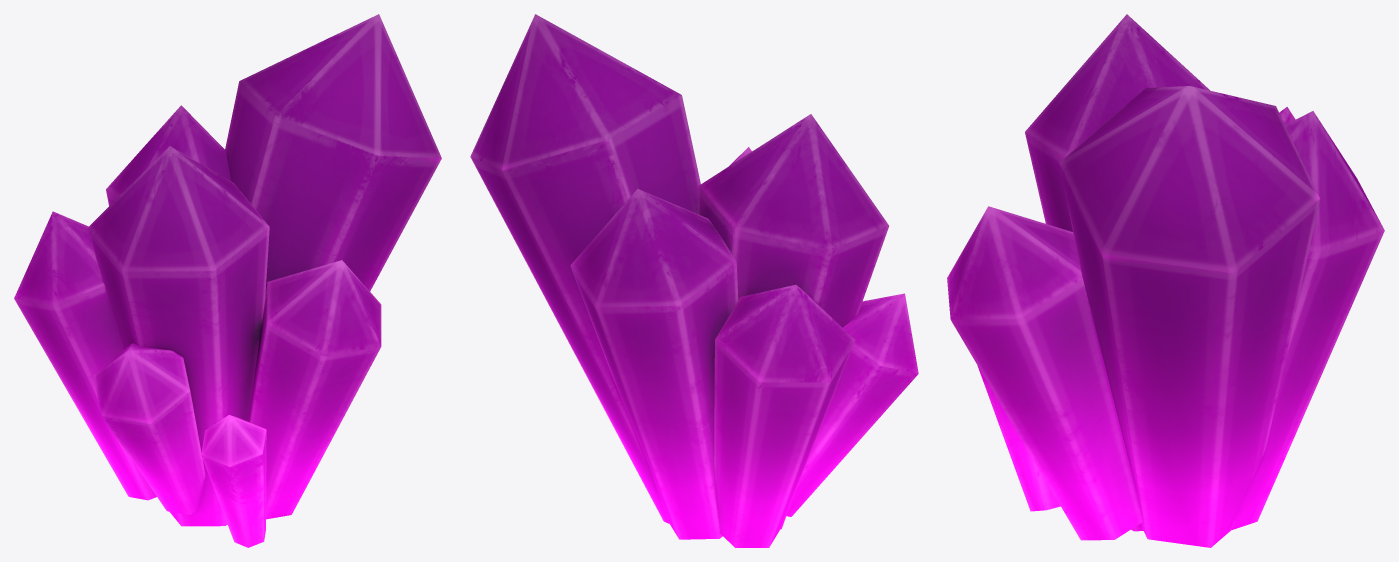
The model's file is crystal.glb.
3 views of the same model, side by side, from view 1: azimuth 30°, elevation 25°; view 2: azimuth 150°, elevation 25°; view 3: azimuth 270°, elevation 25° (orthographic). The views are drawn at different scales.
Visible parts, largest first — view 1: PurpleCrystal; view 2: PurpleCrystal; view 3: PurpleCrystal.
Part boxes in pixels (x1,y1,x2,y2): PurpleCrystal: (14,14,441,547); PurpleCrystal: (470,14,918,547); PurpleCrystal: (947,14,1384,547).
Size of the model in its own units: 0.9138 by 1.07 by 0.777.
1 material, 1 textured.
